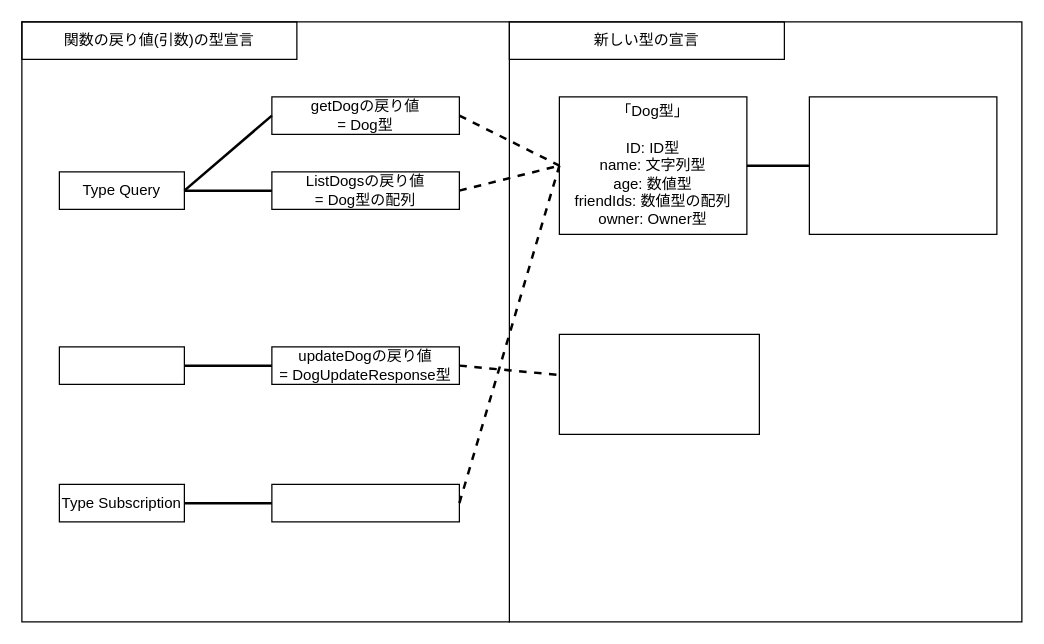
This 1044x644 diagram has some shape labels left out. The centre of each missing label's shape, as x and y in pixels:
"liftDogChangeの戻り値 = Dog型" belongs at (x=365, y=502).
"Type Mutation" belongs at (x=121, y=365).
"「DogUpdateResponse型」 error: 文字列型の配列" belongs at (x=658, y=383).
"「Owner型」 name: 文字列型 age: 数値型 address: 文字列型" belongs at (x=902, y=165).
